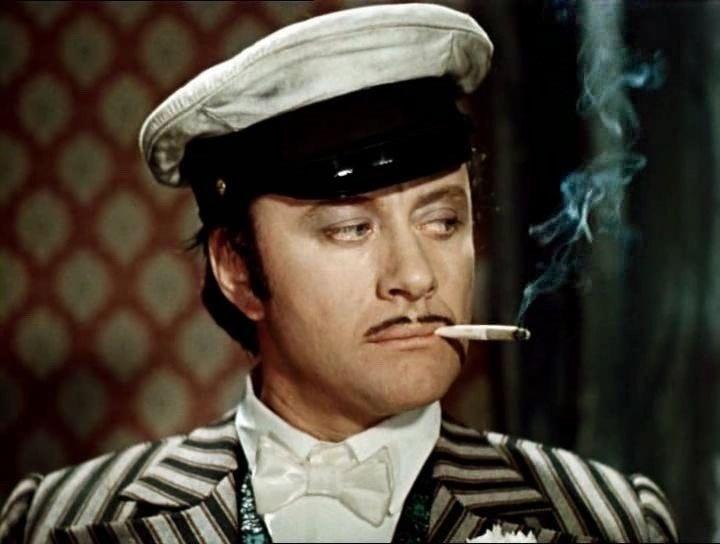cigarette: (436, 324, 533, 344)
